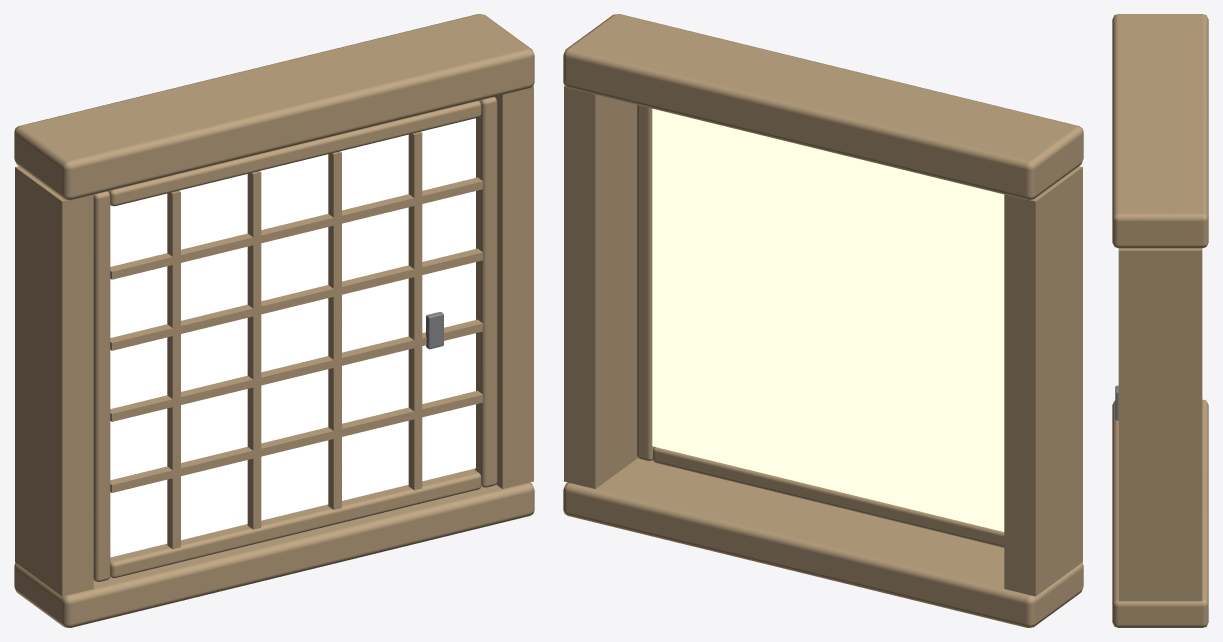
The model's file is korean-hanok-village-and-street-lifting-lattice-window-1962214e__38047.glb.
The picture shows the model from 3 angles, left to right: view 1: azimuth 30°, elevation 25°; view 2: azimuth 150°, elevation 25°; view 3: azimuth 270°, elevation 25°; orthographic projection. The views are drawn at different scales.
Visible parts, largest first — view 1: lifting-lattice-window, window-flap/paper, window-flap/wood; view 2: lifting-lattice-window, window-flap/paper, window-flap/wood; view 3: lifting-lattice-window.
Boxes of the visible parts, <box> form: lifting-lattice-window: <box>14,14,534,627</box>; window-flap/paper: <box>110,118,475,557</box>; window-flap/wood: <box>93,97,497,581</box>; lifting-lattice-window: <box>563,14,1083,627</box>; window-flap/paper: <box>652,108,1004,531</box>; window-flap/wood: <box>637,105,1004,547</box>; lifting-lattice-window: <box>1112,14,1208,627</box>.
Size of the model in its own units: 1.5 by 1.42 by 0.2999.
